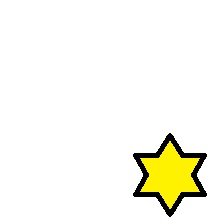star: (132, 134, 206, 218)
